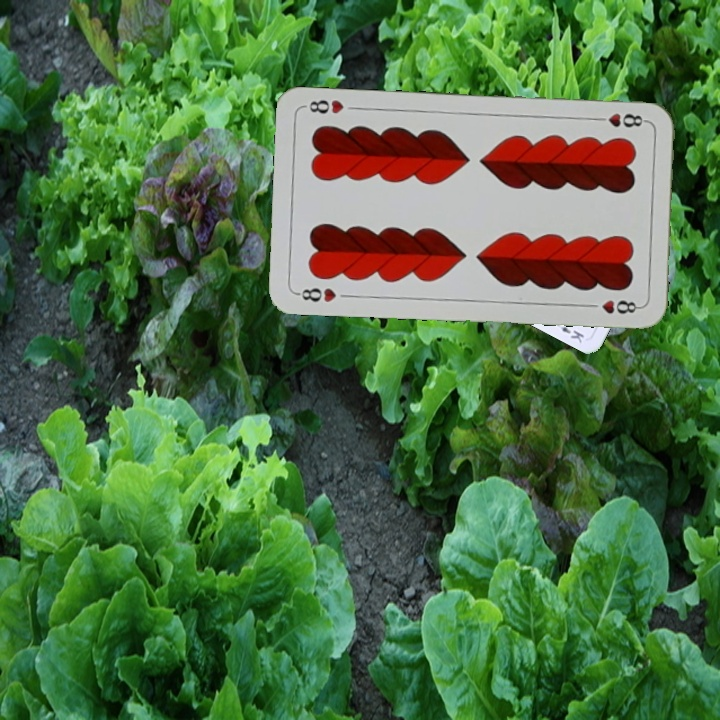H8: (590, 108, 649, 130), (293, 284, 339, 305)
